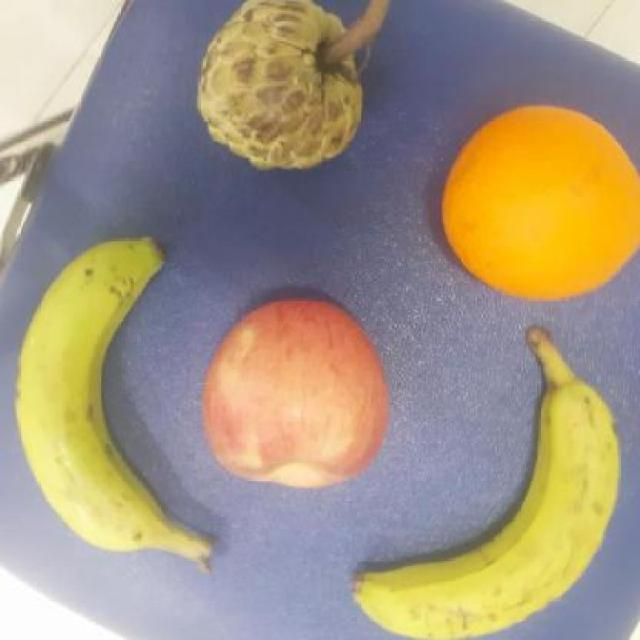banana: (348, 335, 627, 639), (1, 242, 218, 576)
oren: (428, 97, 640, 305), (196, 292, 395, 492)
sugar apple: (198, 0, 372, 172)
